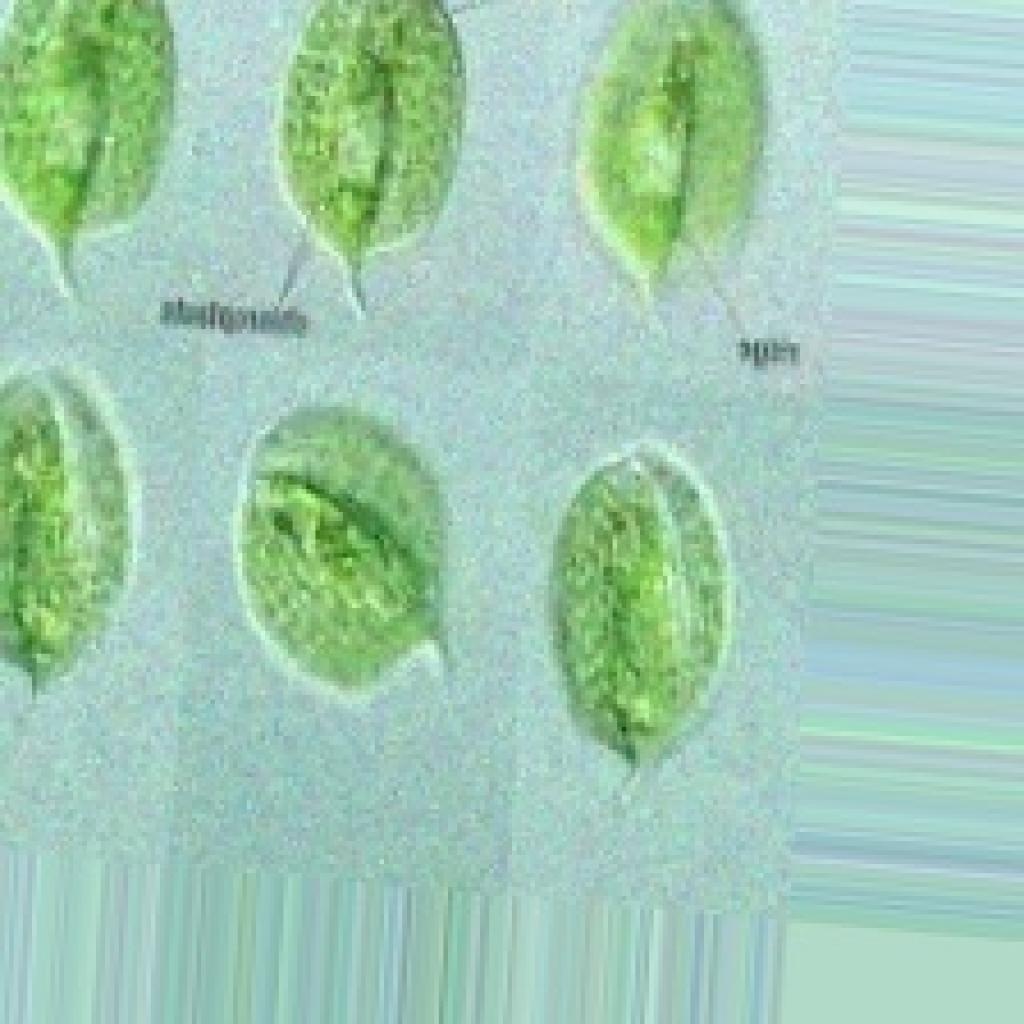Microalgae: (544, 434, 731, 791), (228, 402, 452, 700), (270, 0, 466, 311), (571, 0, 767, 306), (0, 0, 174, 297), (0, 356, 137, 700)
